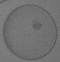small: (31, 19, 42, 29)
